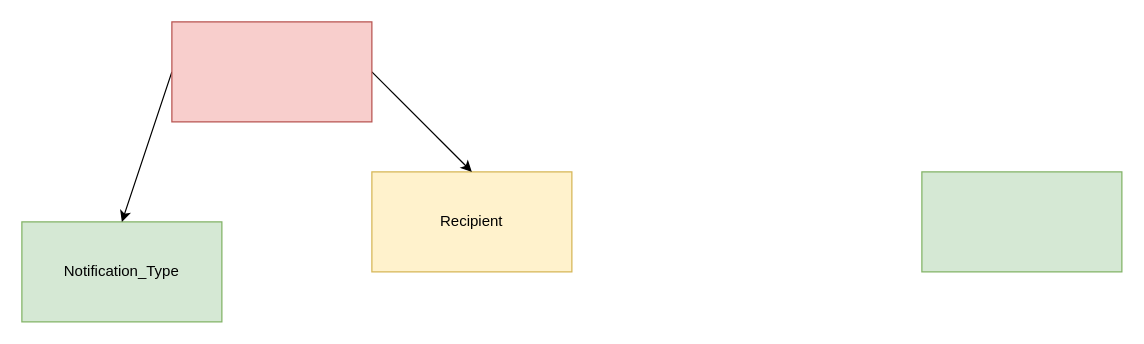
This 1144x344 diagram has some shape labels left out. Each missing label, with the centre of its shape:
"JobPool" belongs at point (1021, 221).
"Notification" belongs at point (271, 71).
